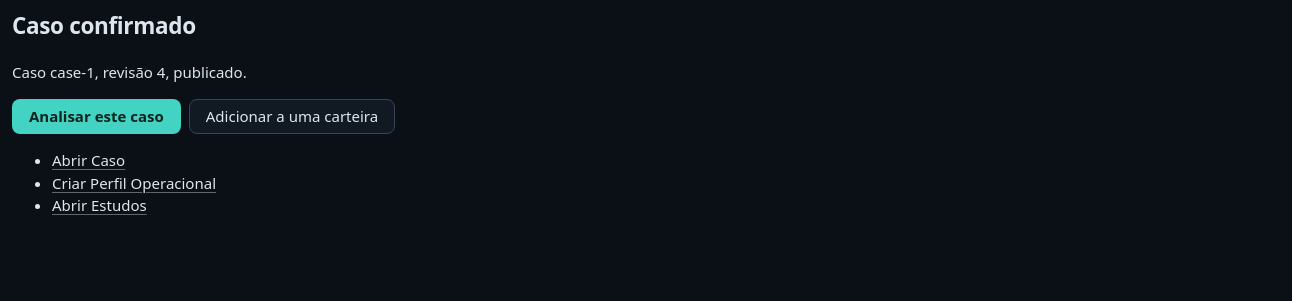
Test: CaseConfirmation atalhos › sem estudo com dados importados, explica o que fazer
What coordinates should you click on to do the following:
click the button "Adicionar a uma carteira"
I would click on:
 (292, 116)
Its box is x1=189 y1=99 x2=395 y2=134.
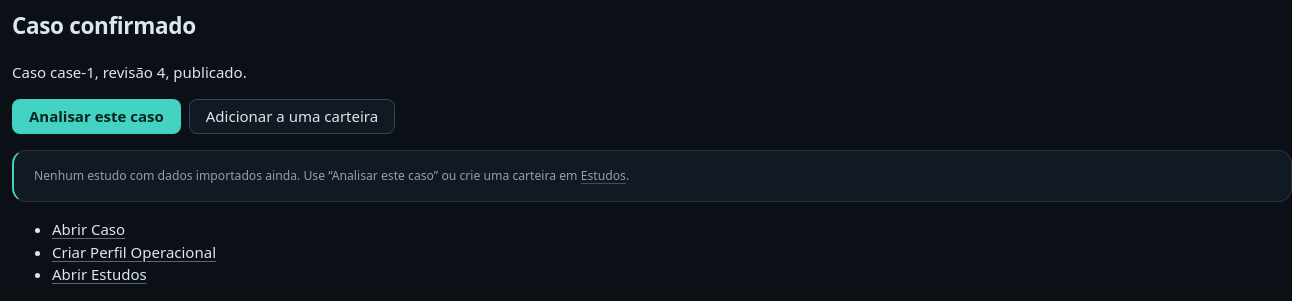
Expected: the text "Nenhum estudo com dados importados ainda" is shown, x1=34 y1=167 x2=581 y2=184
